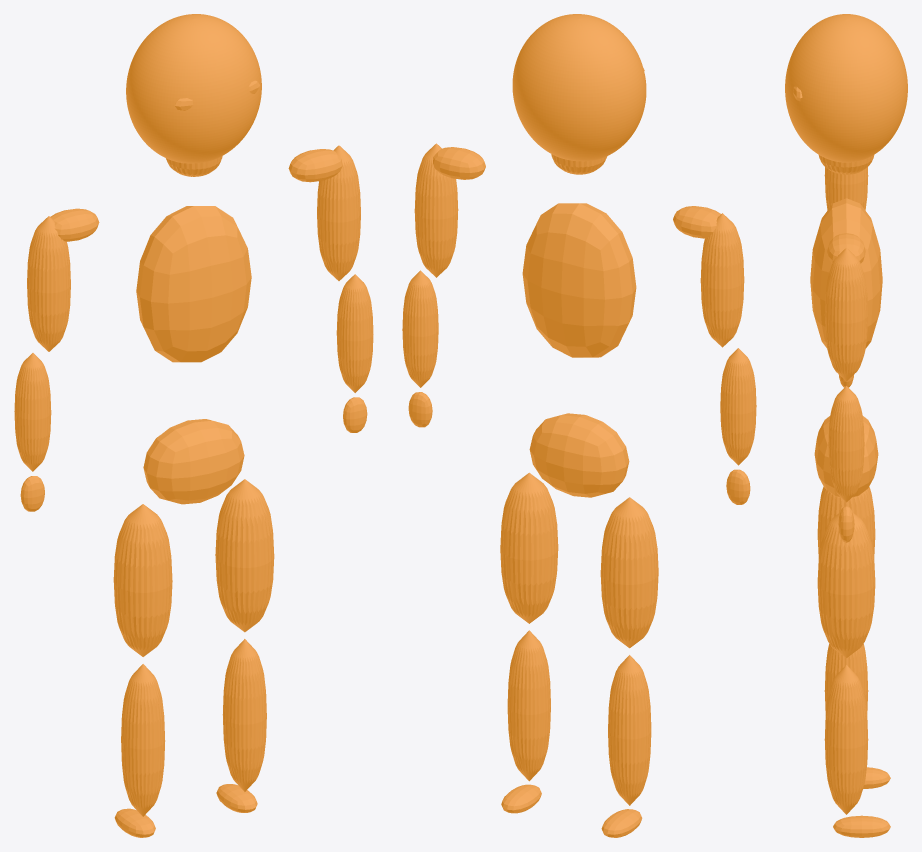
File: char_kael_drex_002.glb
3 views of the same model, side by side, from view 1: azimuth 30°, elevation 25°; view 2: azimuth 150°, elevation 25°; view 3: azimuth 270°, elevation 25° (orthographic).
Visible parts, largest first — view 1: char_kael_drex_002; view 2: char_kael_drex_002; view 3: char_kael_drex_002.
Part boxes in pixels (<box>): char_kael_drex_002: <box>14,14,373,837</box>; char_kael_drex_002: <box>402,14,756,837</box>; char_kael_drex_002: <box>785,14,907,837</box>.
Size of the model in its own units: 1.04 by 2.27 by 0.3199.
